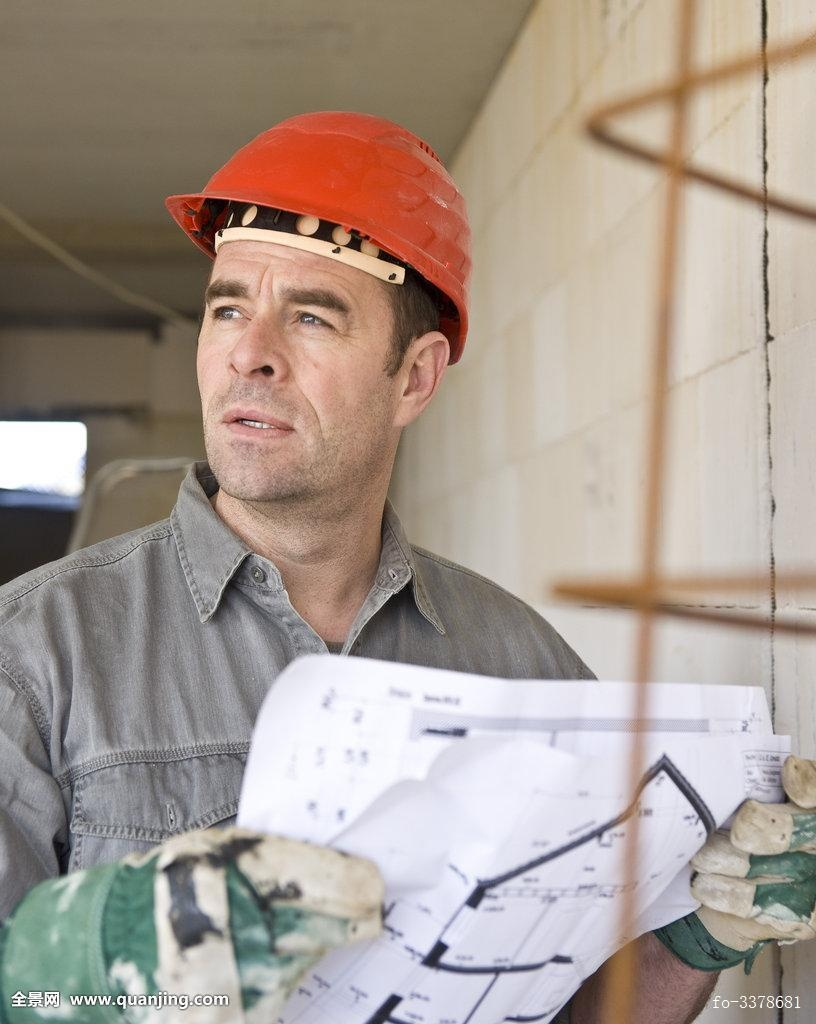red: (180, 114, 472, 507)
